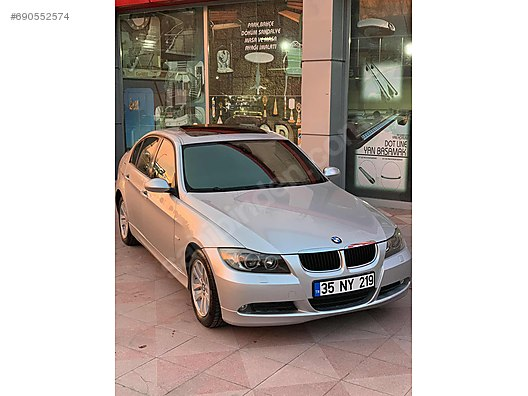bmw: (114, 122, 414, 345)
